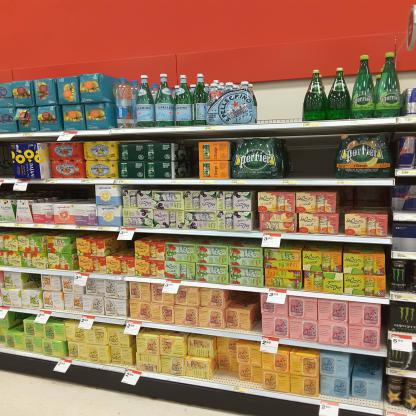Void: (278, 137, 335, 175), (256, 84, 302, 124), (25, 182, 96, 201), (340, 187, 384, 212), (214, 343, 240, 377), (180, 141, 198, 176), (358, 356, 381, 378), (231, 290, 257, 306), (22, 272, 40, 287), (10, 313, 22, 330)
